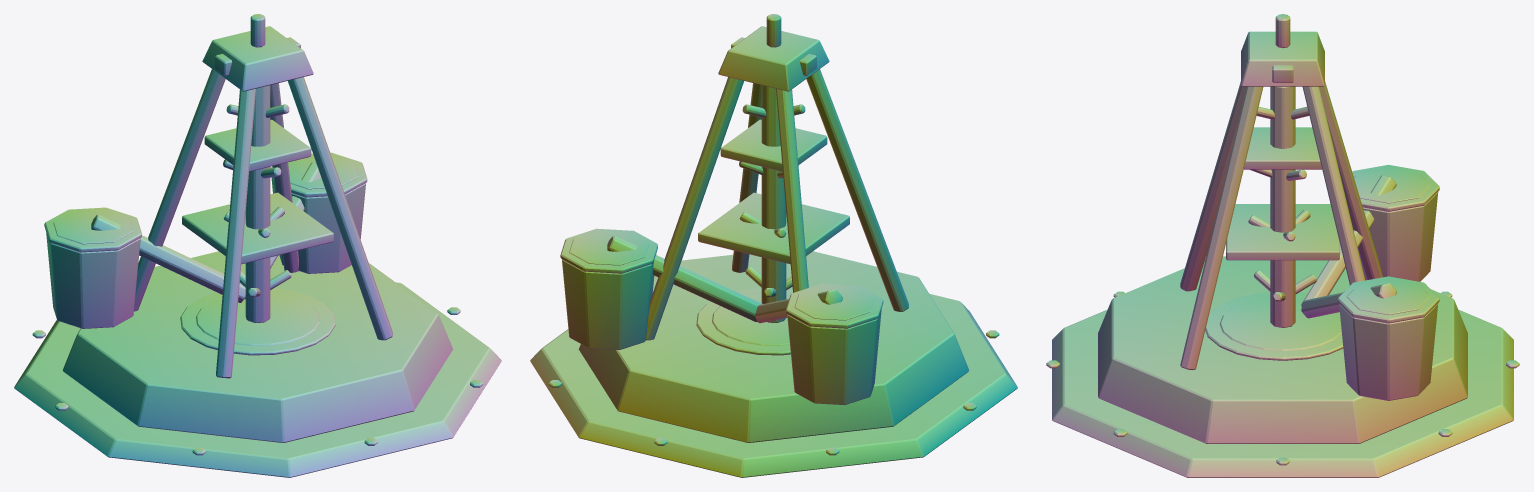
Rendered from extractor_rig.glb.
The picture shows the model from 3 angles, left to right: view 1: azimuth 30°, elevation 25°; view 2: azimuth 150°, elevation 25°; view 3: azimuth 270°, elevation 25°; orthographic projection.
Visible parts, largest first — view 1: body, spin_drill; view 2: body, spin_drill; view 3: body, spin_drill.
Boxes of the visible parts, bbox=[...] form: body: bbox=[14, 14, 501, 477]; spin_drill: bbox=[223, 85, 291, 322]; body: bbox=[530, 14, 1017, 477]; spin_drill: bbox=[739, 85, 805, 322]; body: bbox=[1046, 14, 1519, 477]; spin_drill: bbox=[1248, 86, 1316, 327].
Bounding box in the file's own units: 17.88 × 15.2 × 17.91.
